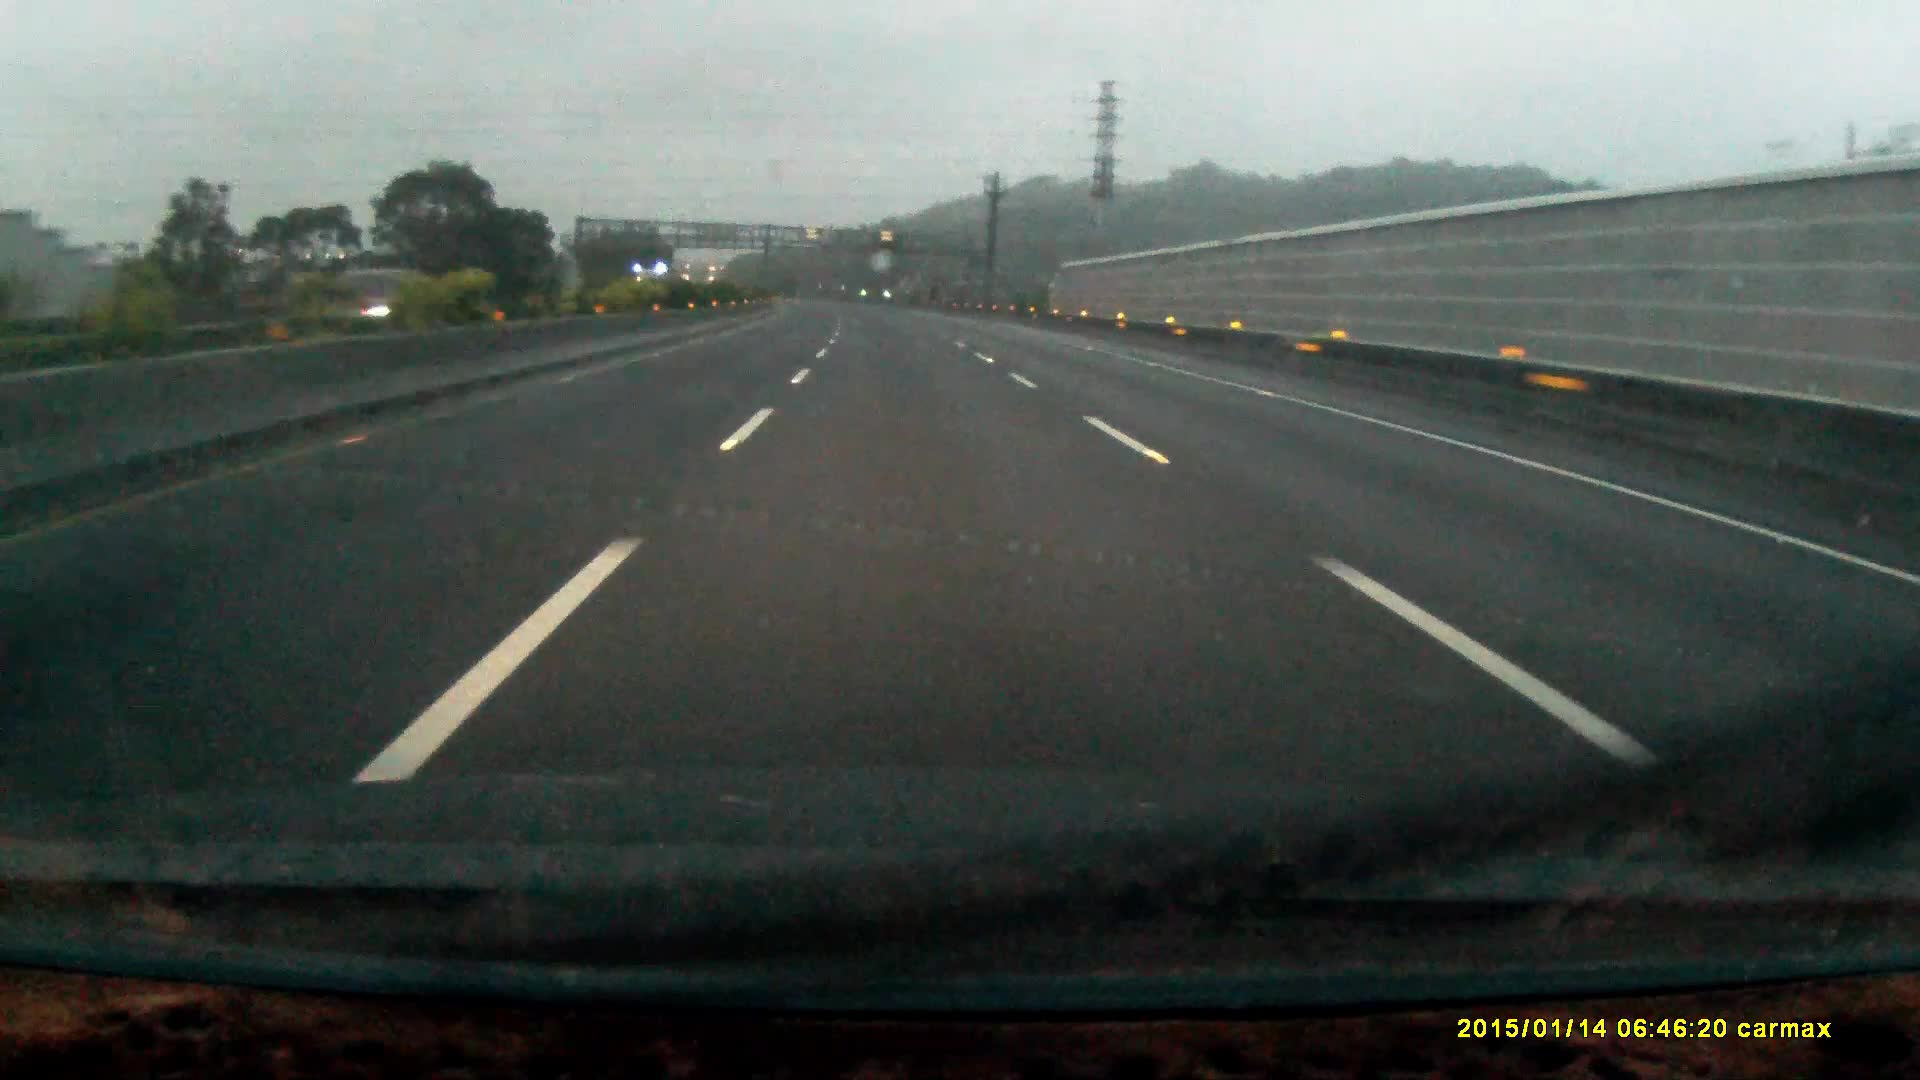vehicle: (327, 266, 430, 319), (636, 262, 682, 309)
